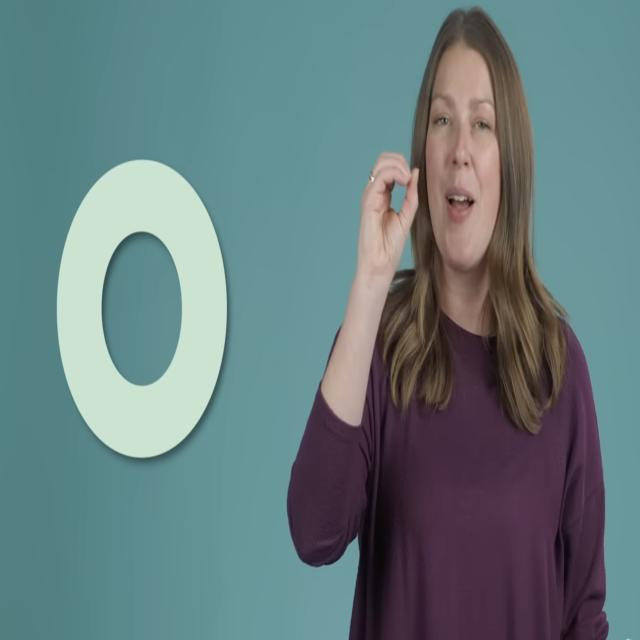O: (346, 137, 431, 262)
